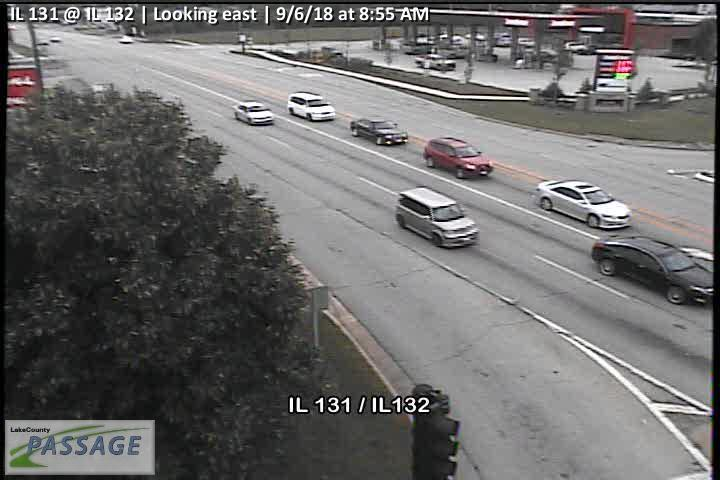SUV: (396, 185, 481, 249), (422, 135, 494, 180), (288, 91, 336, 121)
Sedan: (590, 231, 719, 307), (533, 177, 633, 229), (349, 114, 408, 146), (231, 99, 274, 126)
